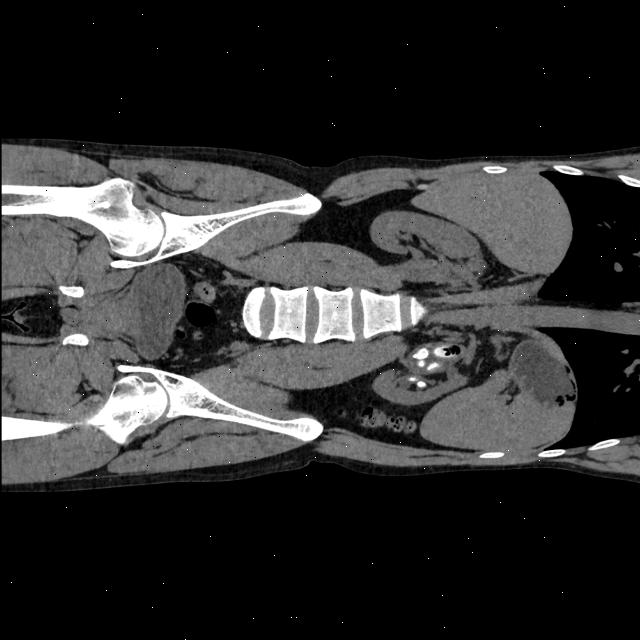kidneystone: (433, 345, 459, 358), (412, 348, 429, 360), (426, 362, 439, 370), (416, 360, 425, 369), (417, 380, 425, 389), (408, 376, 416, 382)
